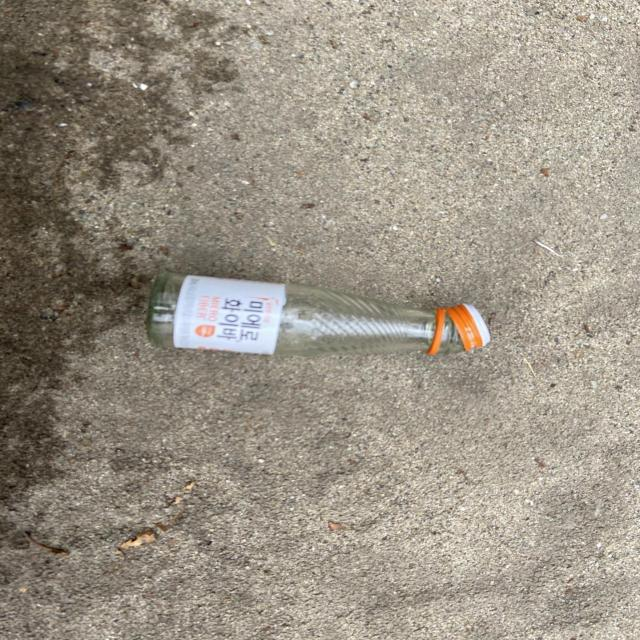glass: (145, 273, 490, 356)
